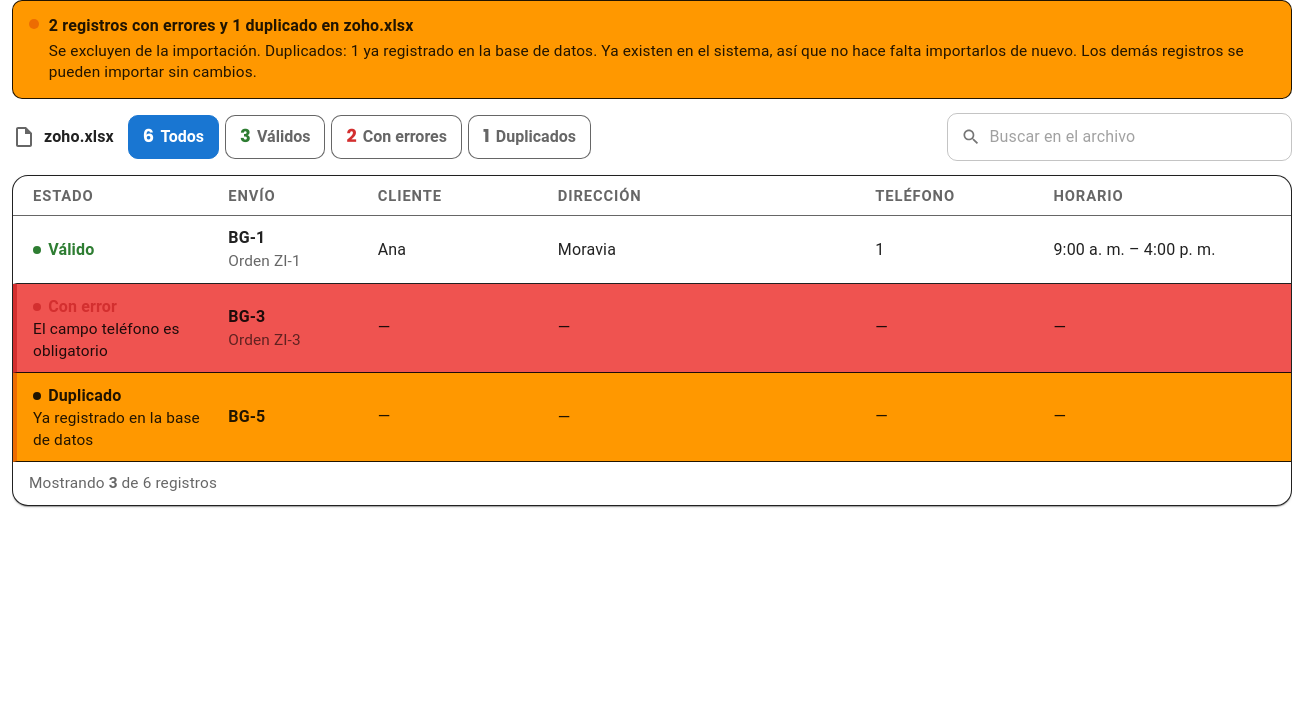
ImportPreviewView › filtra la lista al elegir un grupo y vuelve a mostrar todo con "Todos"
Expected: the number of list items is 3, 13,216 -> 1291,284; 13,284 -> 1291,373; 13,373 -> 1291,462
What coordinates should you click on to do the following:
click the button "1 Duplicados"
I would click on:
 (530, 137)
Its box is 468,115 -> 591,159.
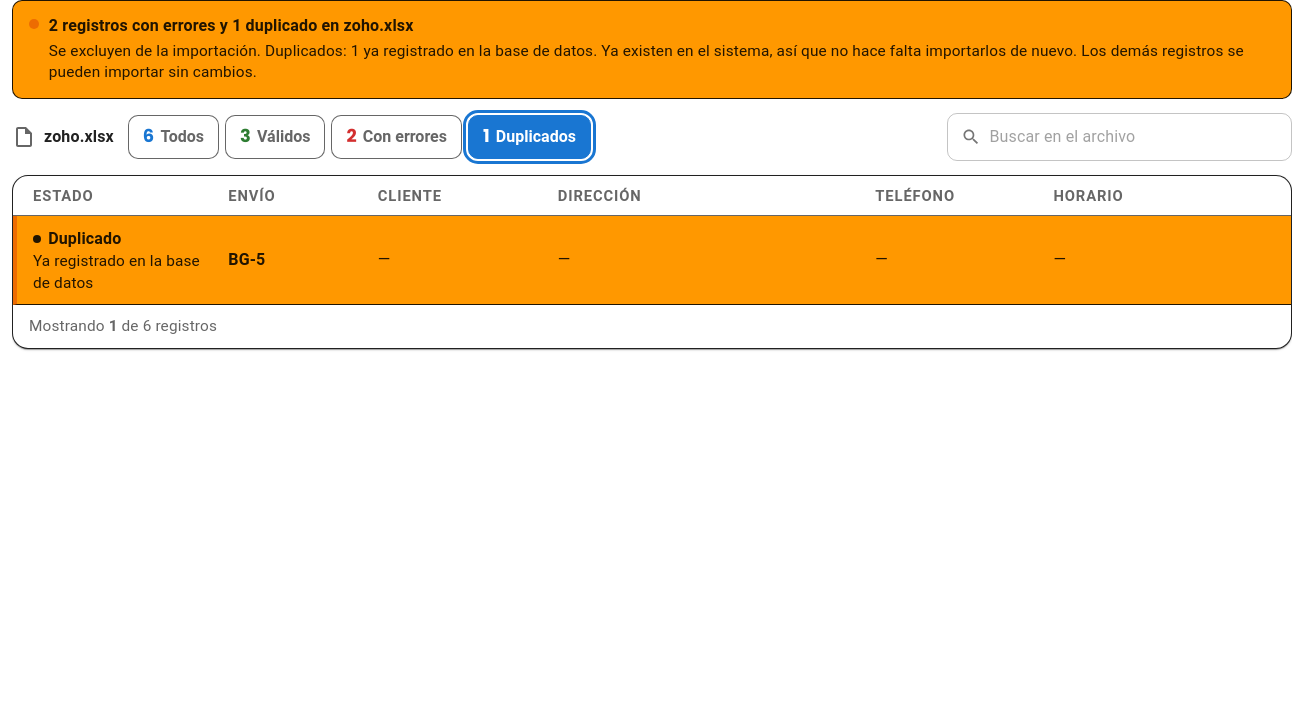
Expected: the number of list items is 1, 13,216 -> 1291,305
Expected: the text "BG-5" is shown, 228,250 -> 265,269
What coordinates should you click on to do the following:
click the button "6 Todos"
I would click on:
 (174, 137)
Its box is 128,115 -> 219,159.
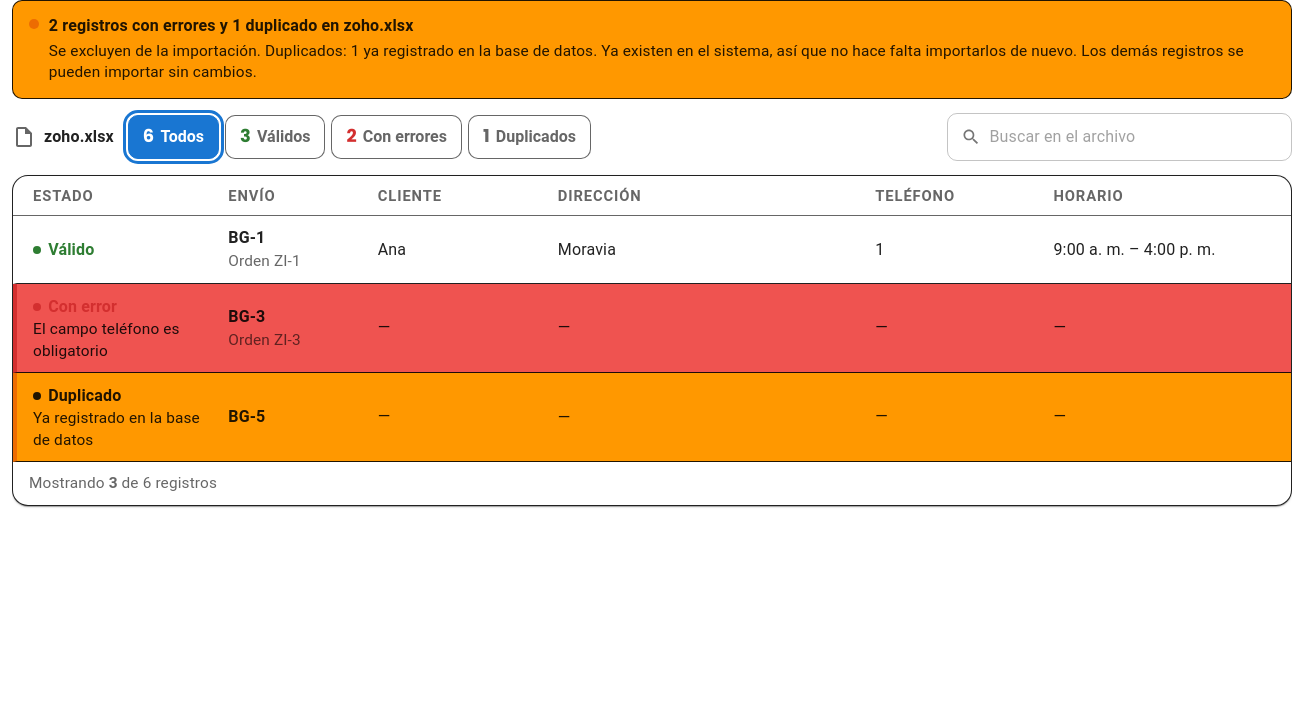
Expected: the number of list items is 3, 13,216 -> 1291,284; 13,284 -> 1291,373; 13,373 -> 1291,462
